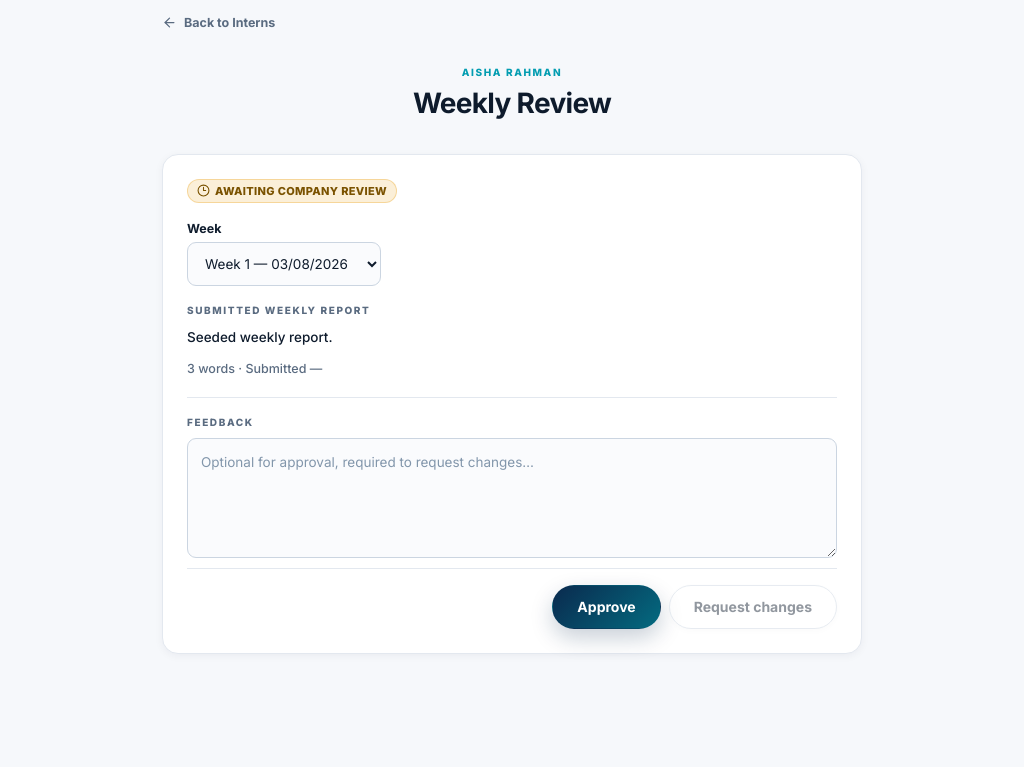
Test: managed reviewer flows › keeps success and offers refresh retry when reconciliation fails
Expected: the text "Seeded weekly report." is shown, [187, 329, 333, 345]
Click the button "Approve".
click(607, 606)  # box [552, 584, 661, 628]
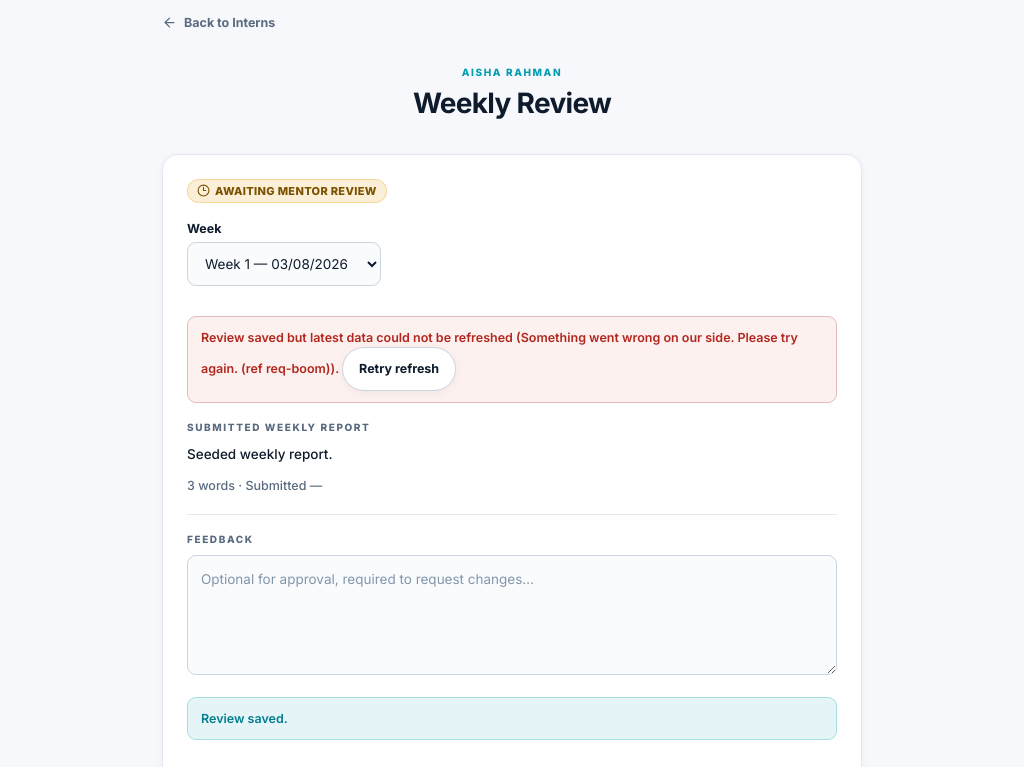
Expected: the text "Review saved." is shown, [187, 697, 837, 740]
Expected: the text "could not be refreshed" is shown, [201, 330, 513, 345]
Click the button "Retry refresh".
click(399, 369)  # box [342, 347, 456, 391]
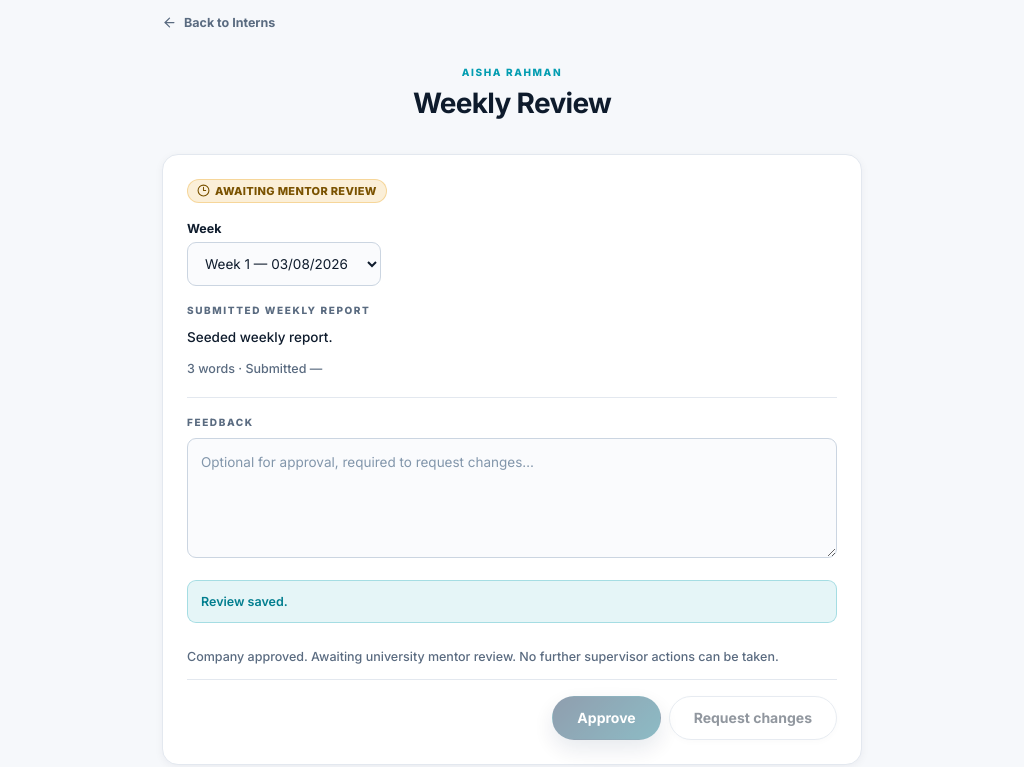
Expected: the text "Review saved." is shown, [187, 580, 837, 623]
Expected: the text "could not be refreshed" is gone
